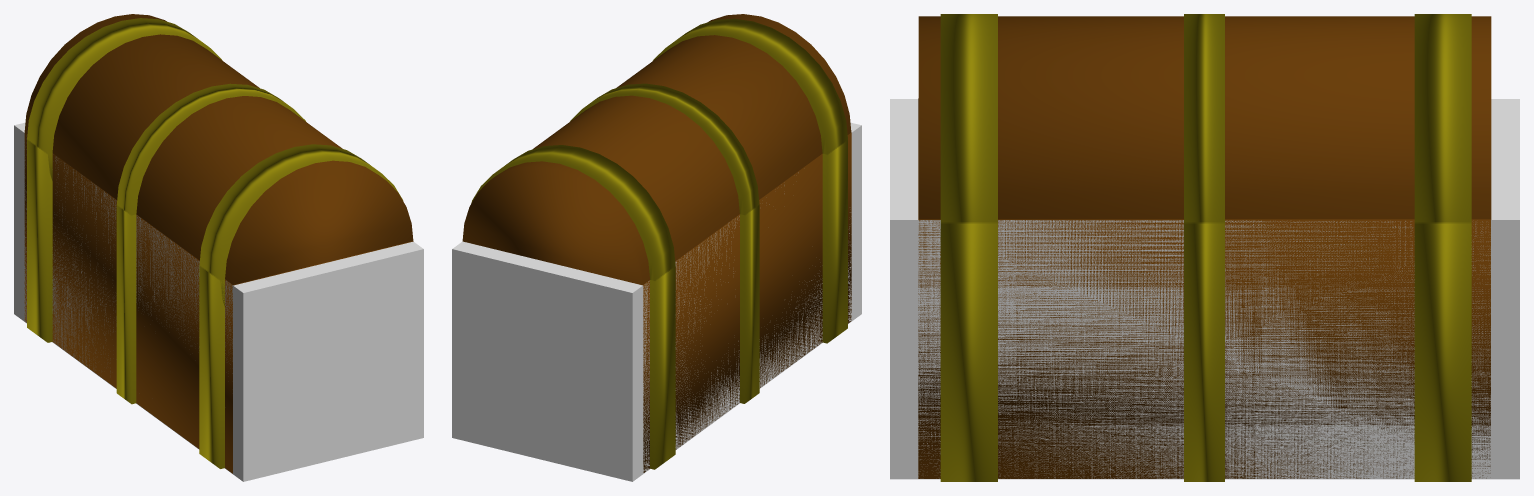
The model's file is GoldenChest.fbx.
3 renders of one model, left to right at view 1: azimuth 30°, elevation 25°; view 2: azimuth 150°, elevation 25°; view 3: azimuth 270°, elevation 25°, orthographic. The views are drawn at different scales.
Parts seen in each view (by area): view 1: Cube.001, Cylinder, Cube, Cylinder.001, Cylinder.002, Cube.004, Cube.003, Cylinder.003, Cube.002; view 2: Cube.001, Cylinder, Cube, Cylinder.002, Cylinder.001, Cube.003, Cube.004, Cylinder.003, Cube.002; view 3: Cube.001, Cube, Cylinder, Cube.003, Cube.004, Cylinder.001, Cylinder.002, Cube.002, Cylinder.003.
Part boxes in pixels (<box>): Cube.001: <box>14,122,423,481</box>; Cylinder: <box>24,14,413,284</box>; Cube: <box>24,133,413,473</box>; Cylinder.001: <box>199,144,403,306</box>; Cylinder.002: <box>27,18,222,180</box>; Cube.004: <box>199,265,224,468</box>; Cube.003: <box>27,139,52,342</box>; Cylinder.003: <box>117,83,305,215</box>; Cube.002: <box>116,205,136,404</box>; Cube.001: <box>452,122,861,481</box>; Cylinder: <box>462,14,851,285</box>; Cube: <box>643,132,851,472</box>; Cylinder.002: <box>471,145,675,298</box>; Cylinder.001: <box>653,18,847,154</box>; Cube.003: <box>650,266,675,469</box>; Cube.004: <box>822,140,847,343</box>; Cylinder.003: <box>570,83,759,215</box>; Cube.002: <box>740,204,759,403</box>; Cube.001: <box>890,99,1519,479</box>; Cube: <box>918,98,1490,478</box>; Cylinder: <box>918,16,1491,219</box>; Cube.003: <box>1414,222,1471,481</box>; Cube.004: <box>940,222,997,481</box>; Cylinder.001: <box>940,14,997,223</box>; Cylinder.002: <box>1414,14,1471,223</box>; Cube.002: <box>1184,222,1224,481</box>; Cylinder.003: <box>1184,14,1224,223</box>.
Bounding box in the file's own units: 210 × 301 × 440.
